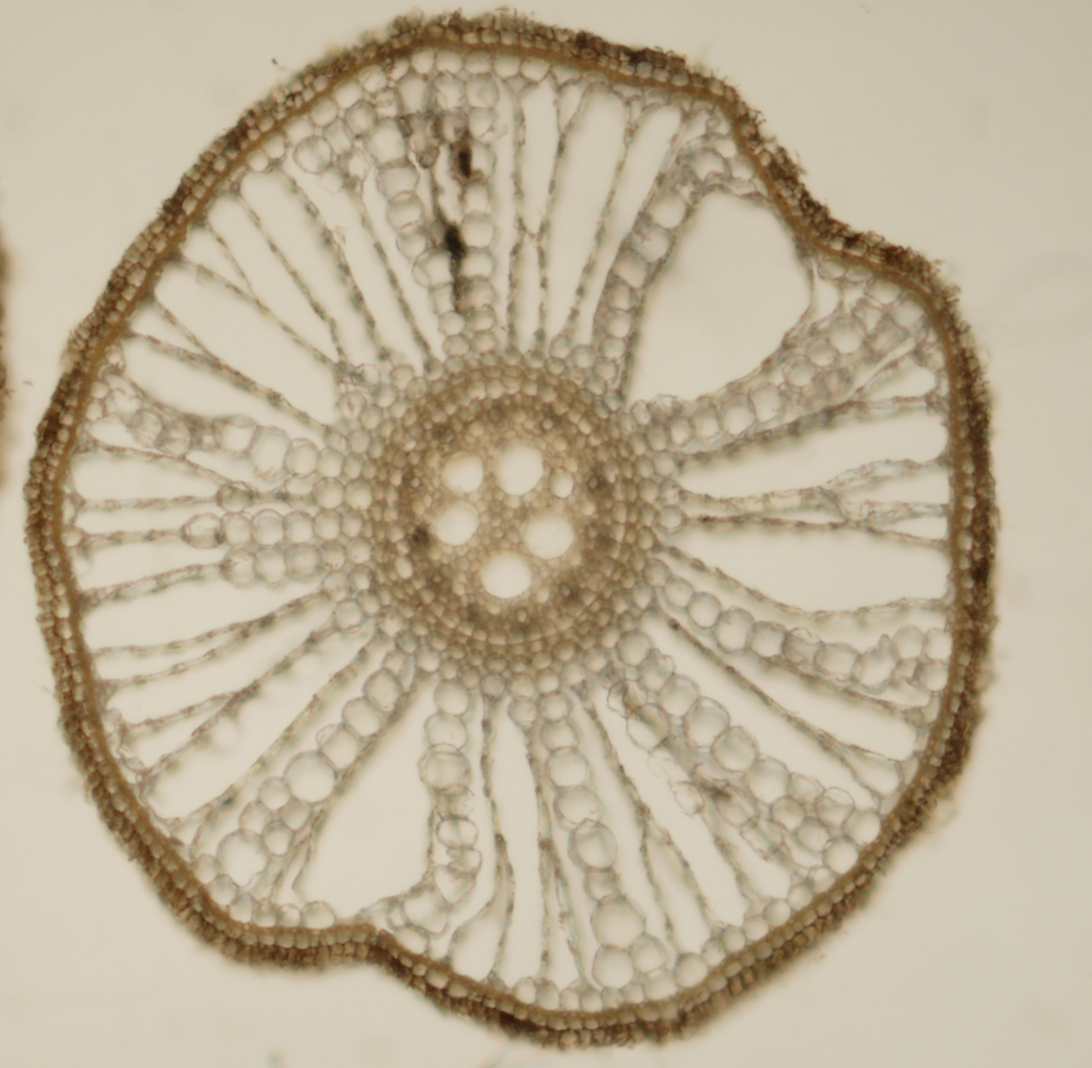lm: (493, 439, 544, 495), (519, 509, 574, 559), (479, 549, 532, 598), (432, 499, 480, 546), (441, 450, 483, 494), (548, 466, 575, 497)
